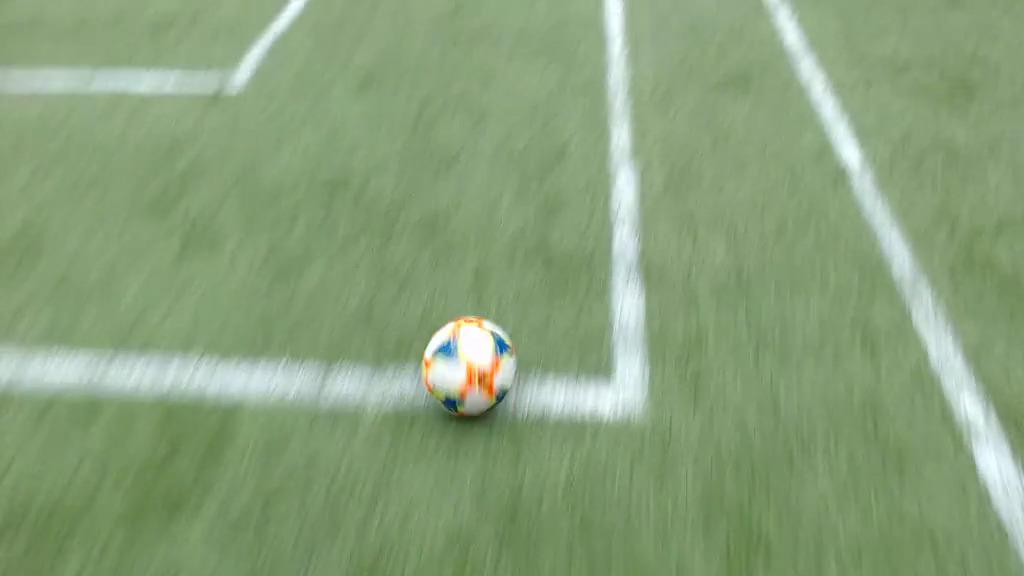ball: (424, 315, 515, 418)
